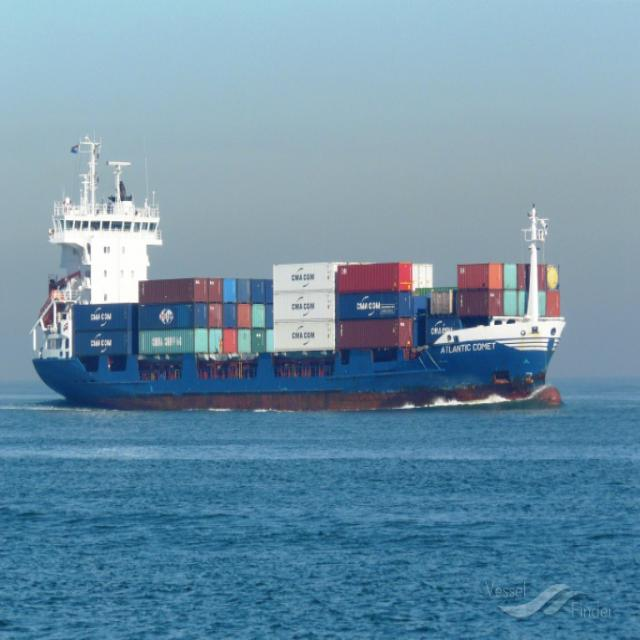Container Ship: (28, 127, 572, 414)
